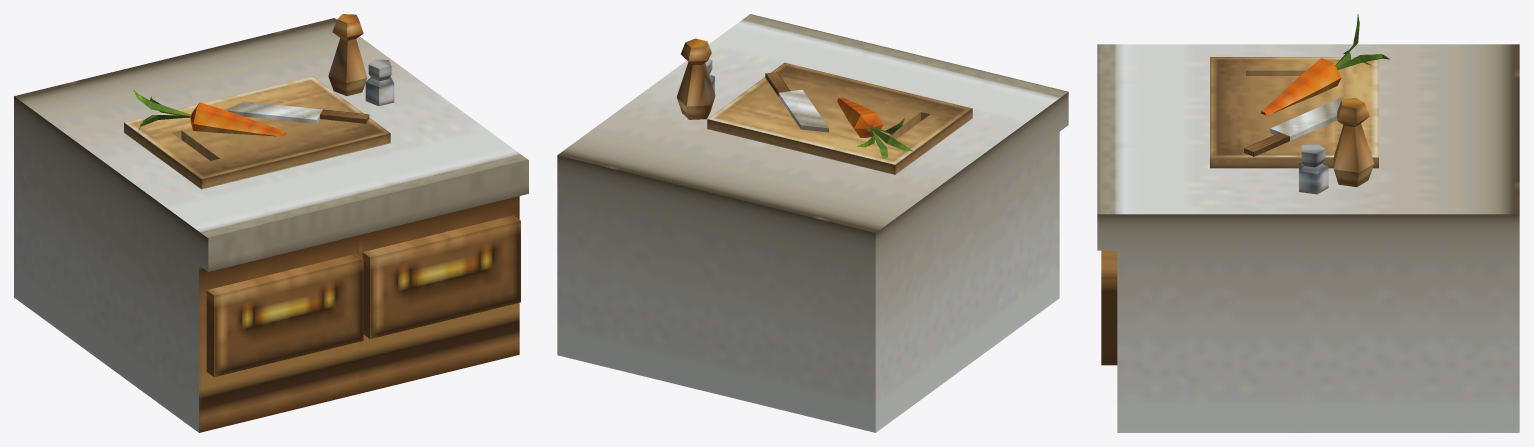
File: Inside_Poly_Kitchen_Table_04.obj
3 renders of one model, left to right at view 1: azimuth 30°, elevation 25°; view 2: azimuth 150°, elevation 25°; view 3: azimuth 270°, elevation 25°, orthographic. The views are drawn at different scales.
Visible parts, largest first — view 1: Cube, Cube.001, Circle.002, Cube.002, Circle, Circle.001; view 2: Cube, Cube.001, Circle.002, Cube.002, Circle, Circle.001; view 3: Cube, Cube.001, Circle.002, Cube.002, Circle, Circle.001.
Part boxes in pixels (bbox=[...]): Cube: bbox=[14, 18, 528, 432]; Cube.001: bbox=[124, 76, 390, 189]; Circle.002: bbox=[328, 14, 394, 105]; Cube.002: bbox=[225, 101, 369, 123]; Circle: bbox=[190, 102, 285, 136]; Circle.001: bbox=[134, 90, 191, 132]; Cube: bbox=[557, 14, 1068, 432]; Cube.001: bbox=[707, 62, 972, 174]; Circle.002: bbox=[676, 38, 715, 119]; Cube.002: bbox=[765, 72, 828, 132]; Circle: bbox=[837, 97, 883, 137]; Circle.001: bbox=[857, 118, 912, 158]; Cube: bbox=[1097, 44, 1519, 432]; Cube.001: bbox=[1210, 57, 1378, 168]; Circle.002: bbox=[1299, 97, 1374, 194]; Cube.002: bbox=[1244, 97, 1343, 156]; Circle: bbox=[1261, 58, 1341, 115]; Circle.001: bbox=[1335, 14, 1390, 69].
Bounding box in the file's own units: 1 × 0.8135 × 1.05.
Materials: 1 (1 with a texture image).
